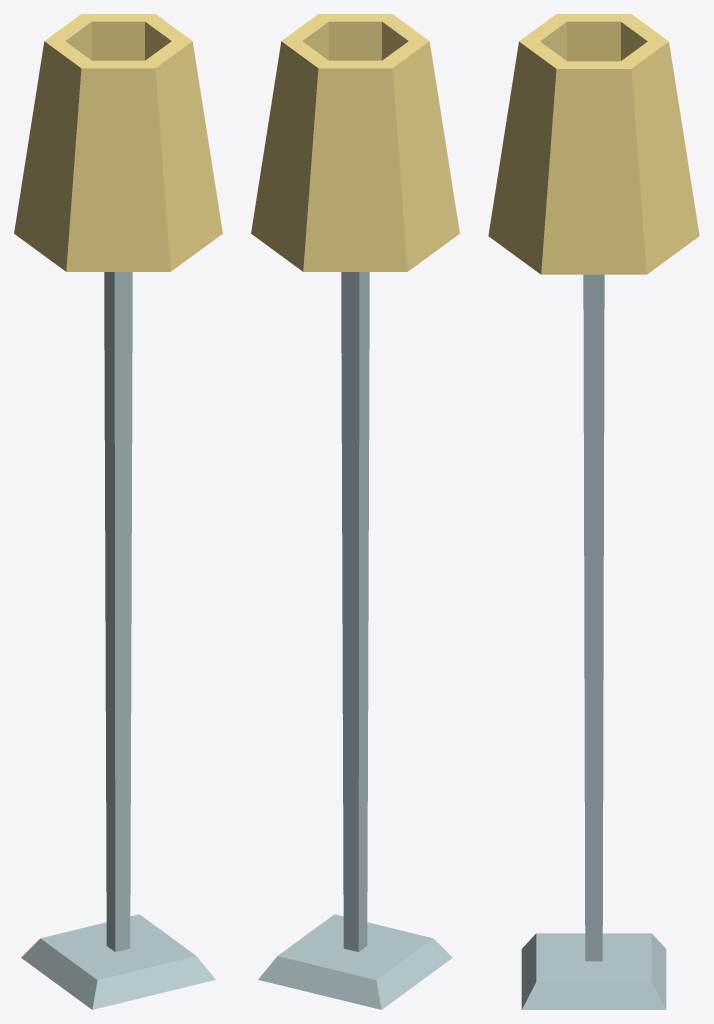
The model's file is lampRoundFloor.fbx.
3 views of the same model, side by side, from view 1: azimuth 30°, elevation 25°; view 2: azimuth 150°, elevation 25°; view 3: azimuth 270°, elevation 25° (orthographic).
Visible parts, largest first — view 1: lampRoundFloor; view 2: lampRoundFloor; view 3: lampRoundFloor.
Part boxes in pixels (x1=…): lampRoundFloor: x1=14, y1=14, x2=222, y2=1009; lampRoundFloor: x1=251, y1=14, x2=459, y2=1009; lampRoundFloor: x1=488, y1=14, x2=699, y2=1009.
Size of the model in its own units: 1.52 by 8.6 by 1.76.
